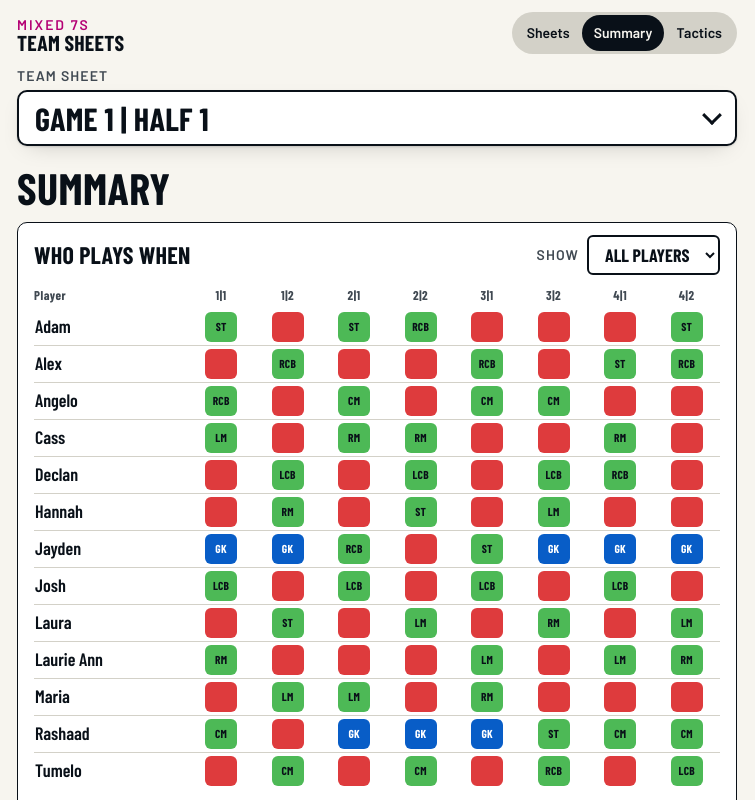
app routing › shows one player's schedule with times and opponents when they are picked
Select "Rashaad" in the dropdown labelled "Show" at (654, 255), box [587, 235, 720, 275]
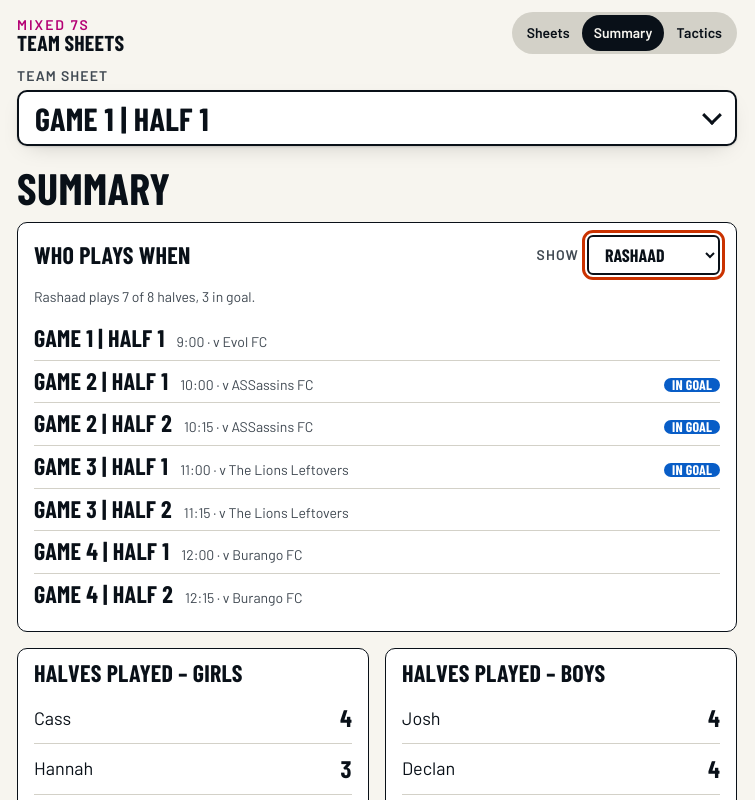
Result: the text "Rashaad plays 7 of 8 halves, 3 in goal." is shown at [34, 288, 255, 305]
Select "All players" in the dropdown labelled "Show" at (654, 255), box [587, 235, 720, 275]
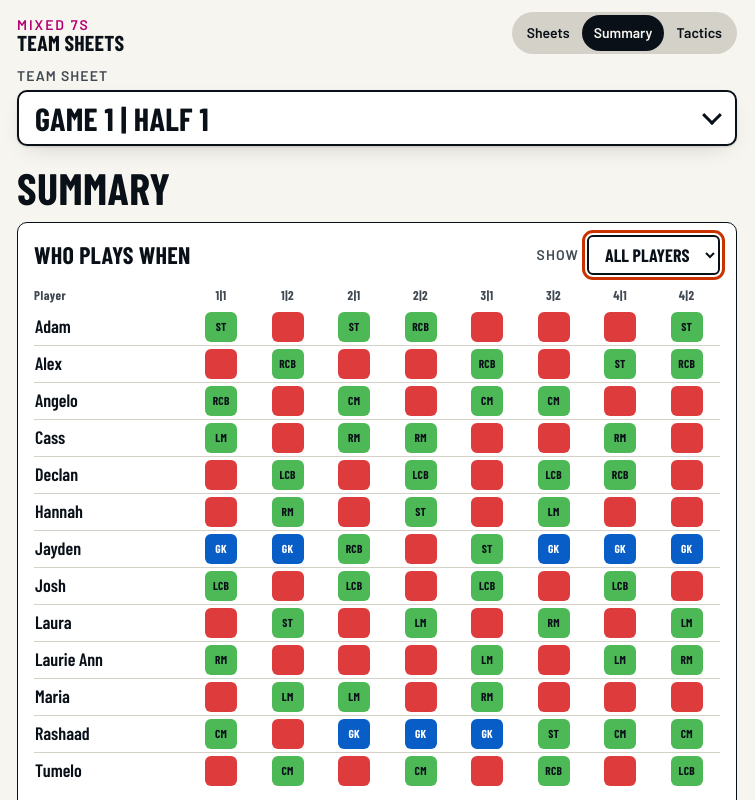
Result: the table is shown at [34, 287, 720, 788]
